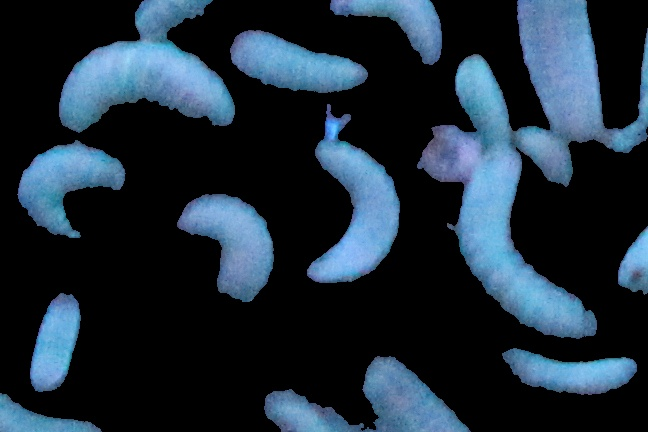larvae: (468, 144, 601, 337), (56, 44, 245, 135), (512, 1, 612, 148), (308, 135, 401, 285), (178, 186, 274, 309), (16, 140, 130, 242), (233, 25, 372, 100), (320, 1, 451, 71), (363, 353, 472, 432), (504, 344, 641, 404), (449, 50, 513, 144), (29, 294, 85, 400), (108, 1, 222, 41), (516, 123, 583, 182)
